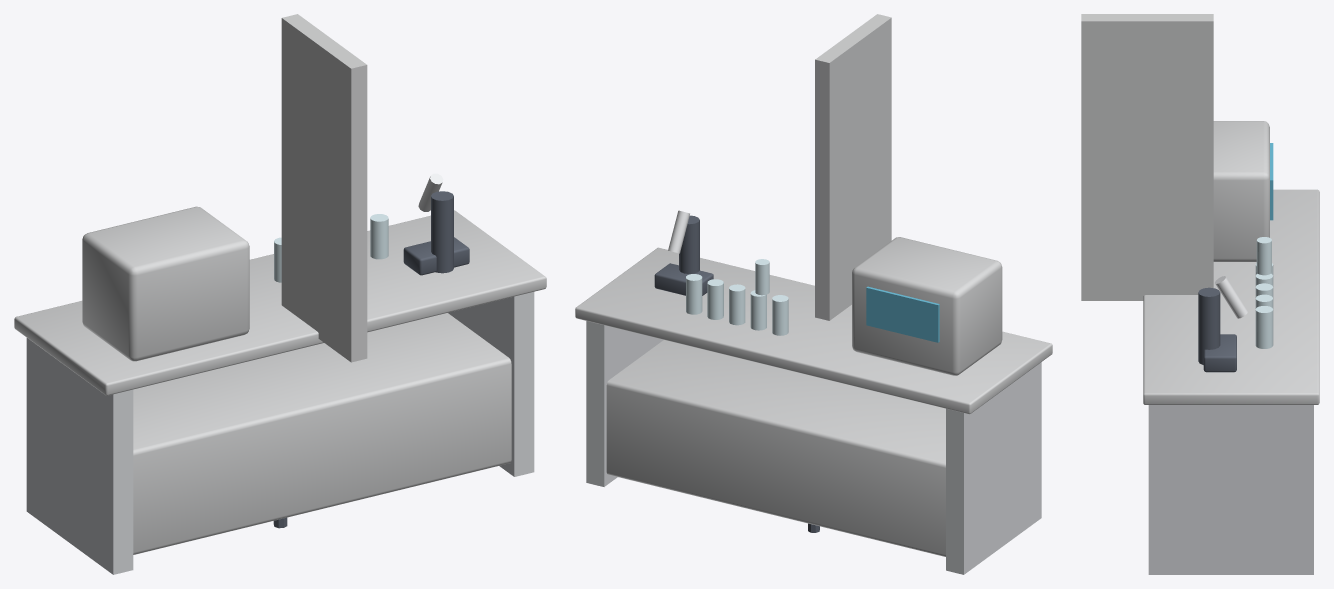
File: Laboratorium.fbx
The picture shows the model from 3 angles, left to right: view 1: azimuth 30°, elevation 25°; view 2: azimuth 150°, elevation 25°; view 3: azimuth 270°, elevation 25°; orthographic projection. The views are drawn at different scales.
Visible parts, largest first — view 1: Maszyna_Laboratorium_Korpus; view 2: Maszyna_Laboratorium_Korpus; view 3: Maszyna_Laboratorium_Korpus, Maszyna_Laboratorium_Probowka.
Boxes of the visible parts, left/top/right/bottom form: Maszyna_Laboratorium_Korpus: left=14, top=14, right=546, bottom=574; Maszyna_Laboratorium_Korpus: left=575, top=14, right=1052, bottom=574; Maszyna_Laboratorium_Korpus: left=1081, top=14, right=1319, bottom=574; Maszyna_Laboratorium_Probowka: left=1256, top=237, right=1271, bottom=275.
Bounding box in the file's own units: 2.2 × 2.46 × 1.08.
